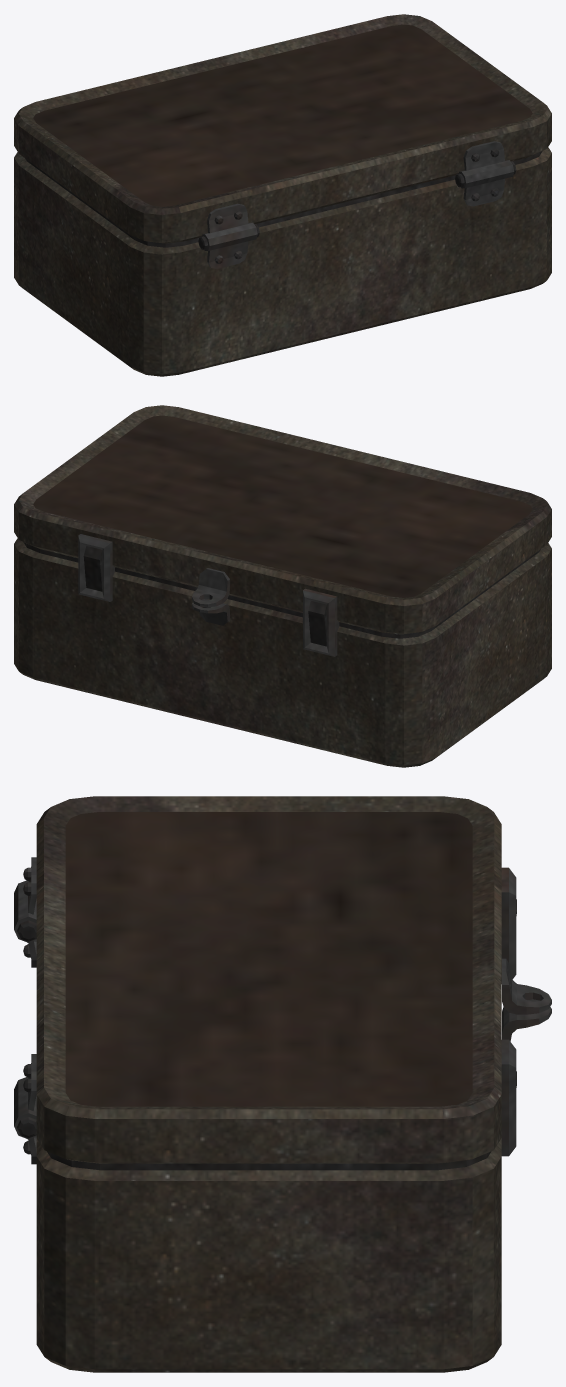
Rendered from metal_crate_2.fbx.
The picture shows the model from 3 angles, top to bottom: view 1: azimuth 30°, elevation 25°; view 2: azimuth 150°, elevation 25°; view 3: azimuth 270°, elevation 25°; orthographic projection. The views are drawn at different scales.
Visible parts, largest first — view 1: metal_crate_2; view 2: metal_crate_2; view 3: metal_crate_2.
Boxes of the visible parts, left/top/right/bottom form: metal_crate_2: left=14, top=14, right=551, bottom=376; metal_crate_2: left=14, top=405, right=551, bottom=767; metal_crate_2: left=14, top=796, right=551, bottom=1372.
Size of the model in its own units: 0.52 by 0.3702 by 0.2.
